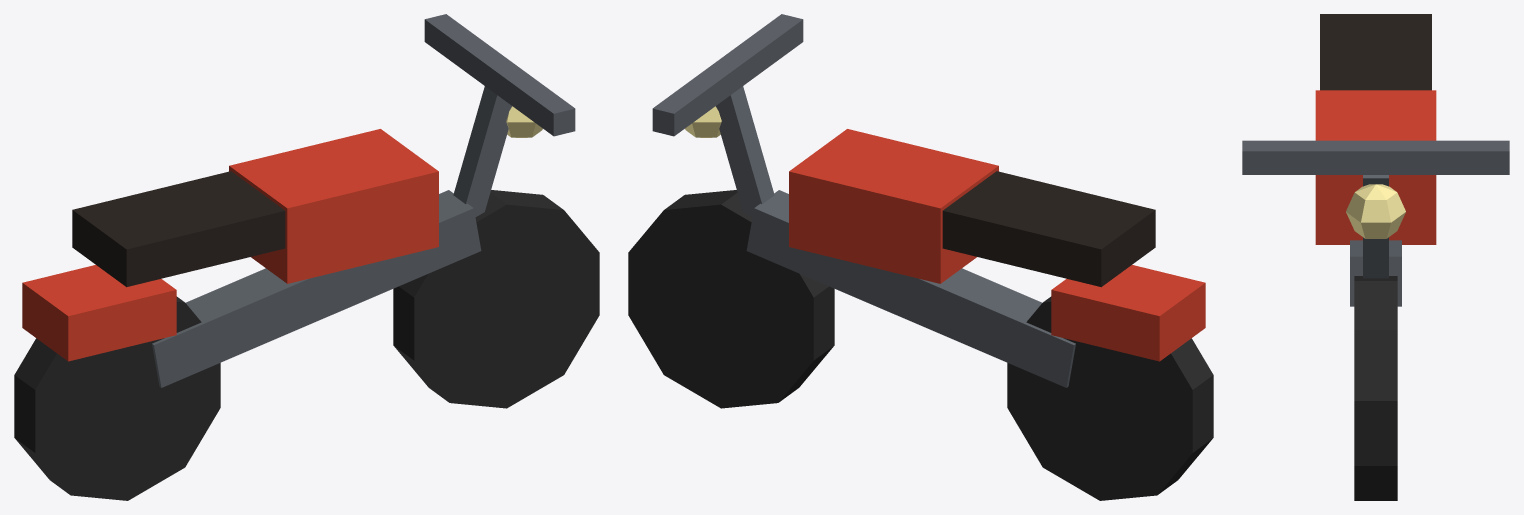
Rendered from bike.glb.
3 renders of one model, left to right at view 1: azimuth 30°, elevation 25°; view 2: azimuth 150°, elevation 25°; view 3: azimuth 270°, elevation 25°, orthographic. The views are drawn at different scales.
Parts seen in each view (by area): view 1: bike; view 2: bike; view 3: bike.
Part boxes in pixels (bbox=[...]): bike: bbox=[14, 14, 599, 500]; bike: bbox=[628, 14, 1213, 500]; bike: bbox=[1242, 14, 1509, 500].
Bounding box in the file's own units: 1.56 × 0.89 × 0.62.
1 material, 1 textured.
